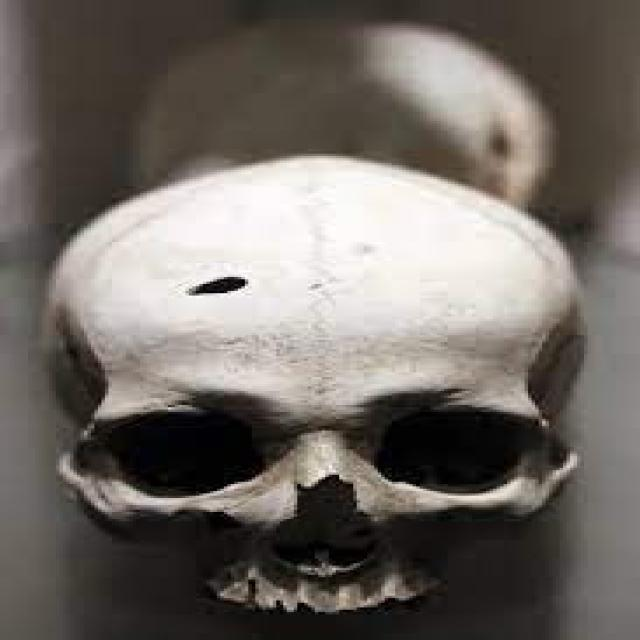skull: (11, 151, 598, 640)
